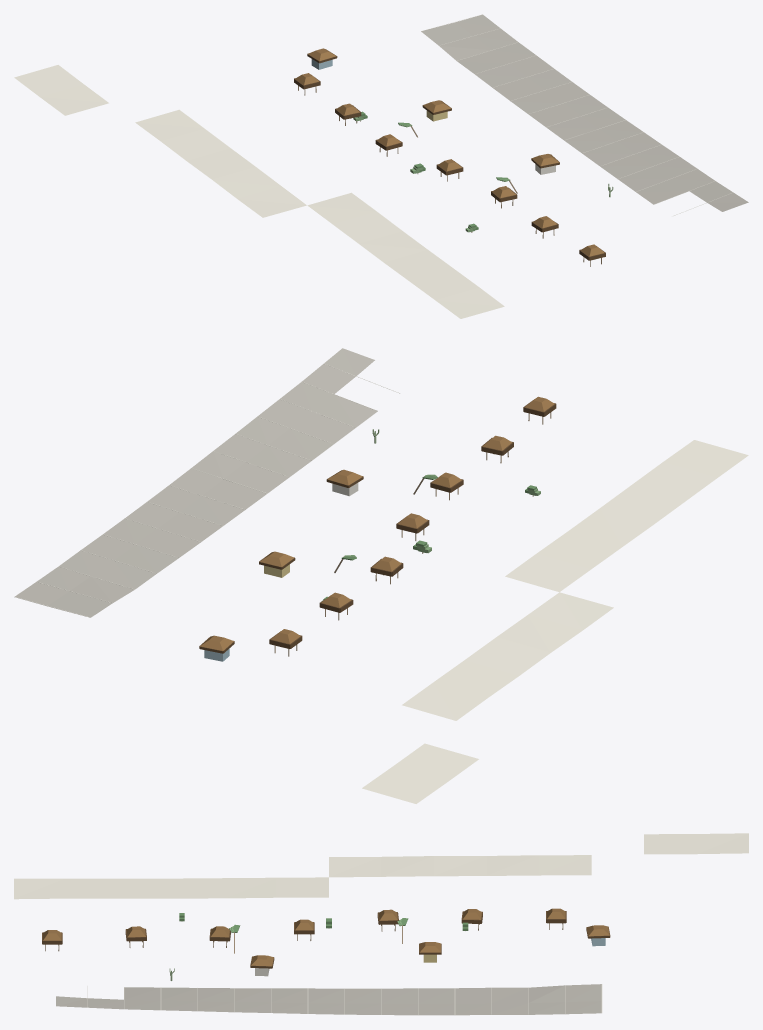
The model's file is nw_arashi.glb.
3 renders of one model, top to bottom at view 1: azimuth 30°, elevation 25°; view 2: azimuth 150°, elevation 25°; view 3: azimuth 270°, elevation 25°, orthographic. The views are drawn at different scales.
Parts seen in each view (by area): view 1: nw_arashi_lod0; view 2: nw_arashi_lod0; view 3: nw_arashi_lod0.
Boxes of the visible parts, x1=… form: nw_arashi_lod0: x1=14, y1=14, x2=748, y2=318; nw_arashi_lod0: x1=14, y1=348, x2=748, y2=803; nw_arashi_lod0: x1=14, y1=833, x2=748, y2=1015.
Size of what is drawn, in the model's own units: 89.69 by 5.86 by 140.
